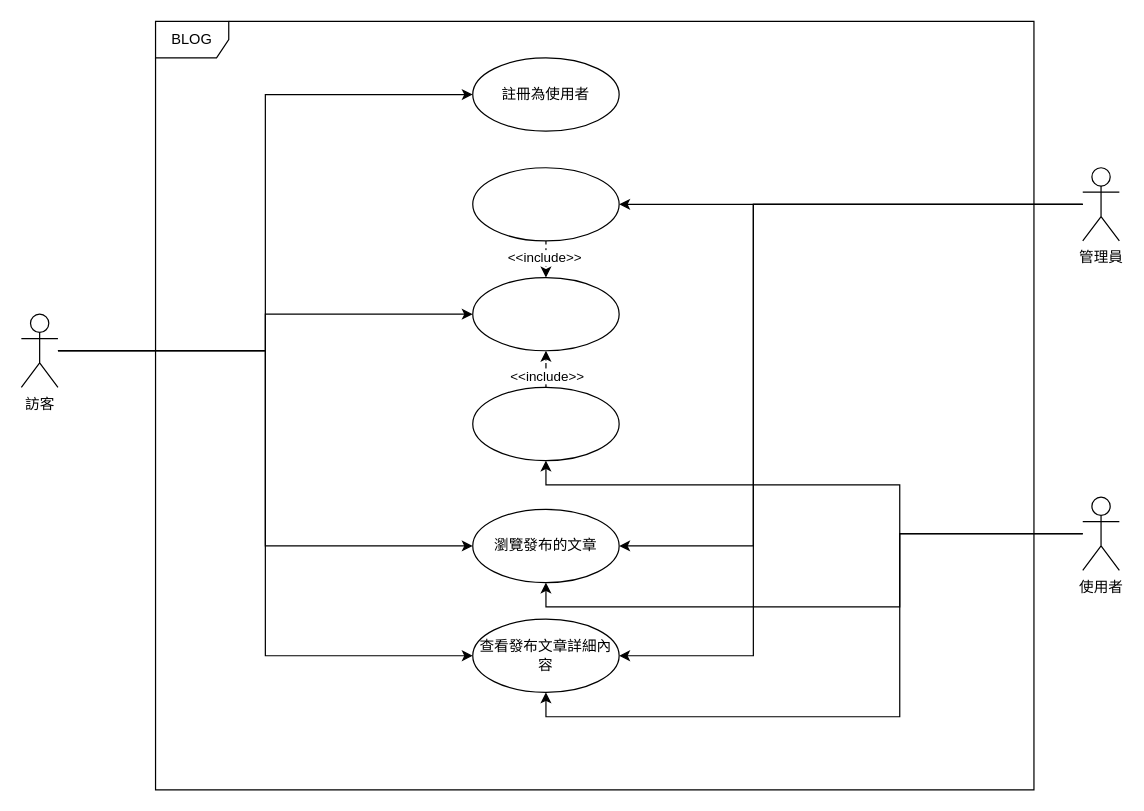
The diagram is 1144 pixels wide and 811 high, and some of its shapes have lost their labels. Each missing label, with the box of its shape:
登入: (472, 276, 619, 351)
管理所有的文章: (472, 167, 619, 241)
管理自己的文章: (472, 386, 619, 461)
